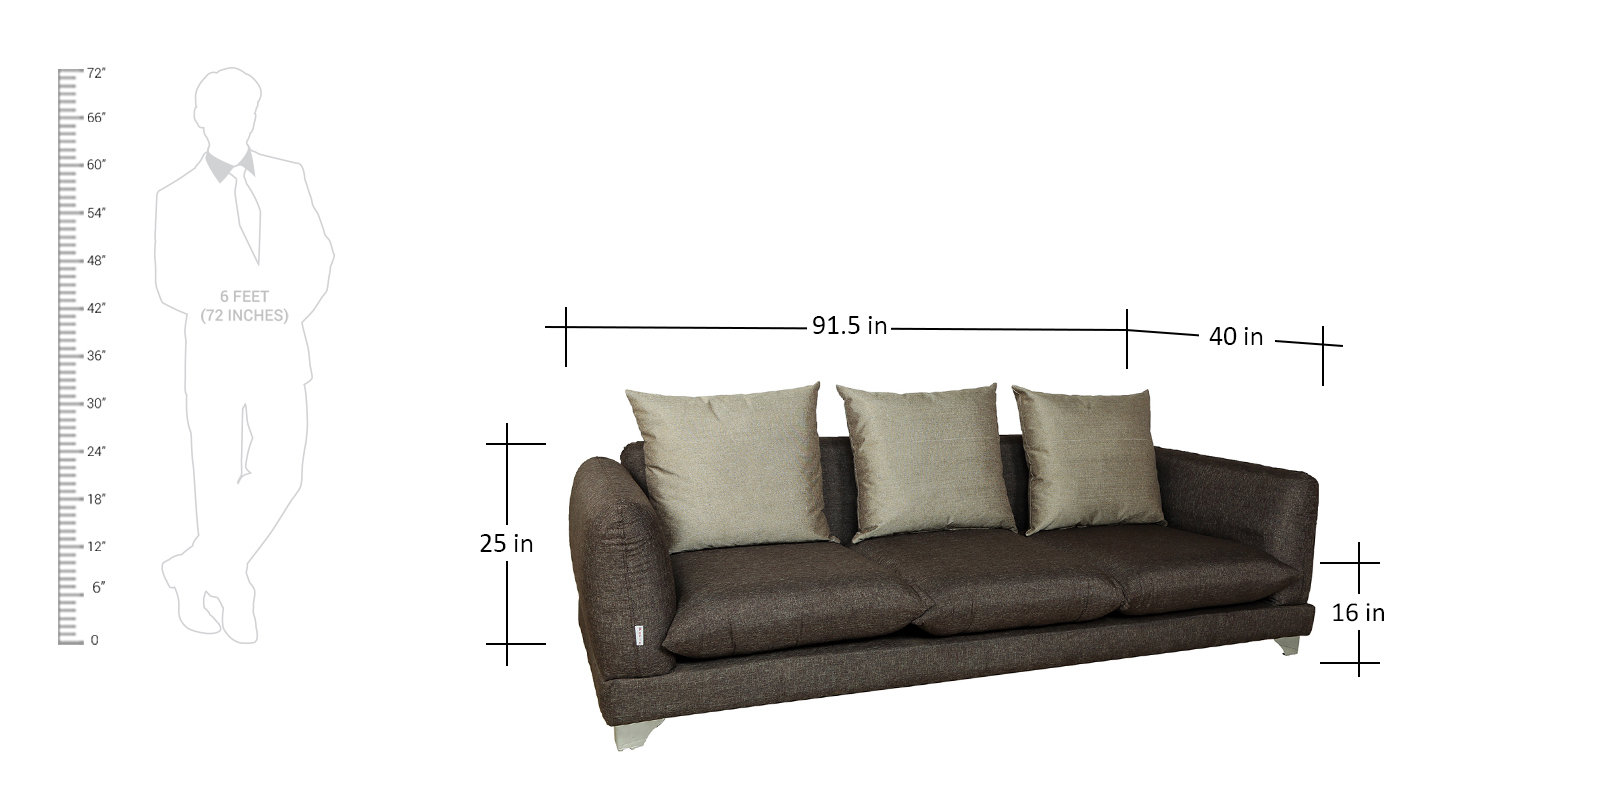Exclusive Three Seater Sofa in Dark Grey Colour by Parin: (565, 379, 1349, 768)
